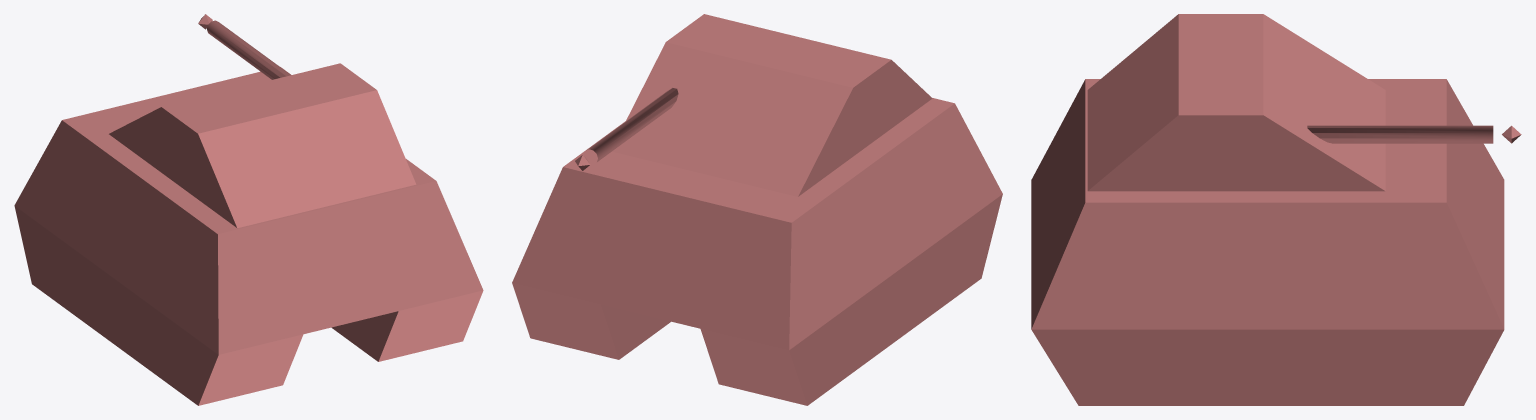
The picture shows the model from 3 angles, left to right: view 1: azimuth 30°, elevation 25°; view 2: azimuth 150°, elevation 25°; view 3: azimuth 270°, elevation 25°; orthographic projection. The views are drawn at different scales.
Parts seen in each view (by area): view 1: x3ds_Box01, x3ds_Box04, x3ds_Box03, x3ds_Box02, x3ds_Cylinder01; view 2: x3ds_Box01, x3ds_Box04, x3ds_Box03, x3ds_Box02, x3ds_Cylinder01; view 3: x3ds_Box01, x3ds_Box04, x3ds_Box02, x3ds_Cylinder01.
Boxes of the visible parts, bbox=[...] form: x3ds_Box01: bbox=[14, 67, 483, 354]; x3ds_Box04: bbox=[109, 63, 416, 228]; x3ds_Box03: bbox=[14, 206, 303, 405]; x3ds_Box02: bbox=[331, 290, 483, 361]; x3ds_Cylinder01: bbox=[207, 20, 290, 79]; x3ds_Box01: bbox=[512, 98, 1002, 350]; x3ds_Box04: bbox=[612, 14, 932, 196]; x3ds_Box03: bbox=[700, 194, 1002, 405]; x3ds_Box02: bbox=[512, 283, 670, 359]; x3ds_Cylinder01: bbox=[584, 88, 678, 164]; x3ds_Box01: bbox=[1031, 79, 1504, 329]; x3ds_Box04: bbox=[1087, 14, 1385, 191]; x3ds_Box02: bbox=[1031, 329, 1503, 405]; x3ds_Cylinder01: bbox=[1307, 125, 1493, 143].
Size of the model in its own units: 35.3 by 29.32 by 48.88.
